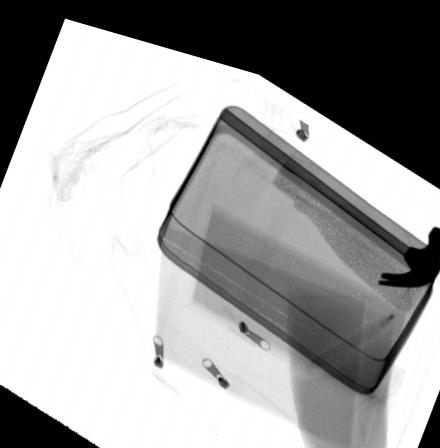Hammer: (218, 95, 440, 266)
